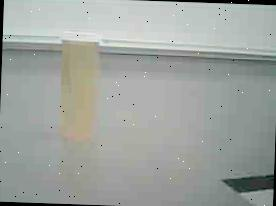Bottle A: (50, 22, 104, 150)
